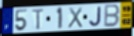1: (55, 6, 64, 30)
5: (14, 9, 28, 32)
B: (103, 4, 121, 28)
J: (88, 6, 102, 27)
T: (32, 8, 45, 31)
X: (67, 6, 84, 29)
